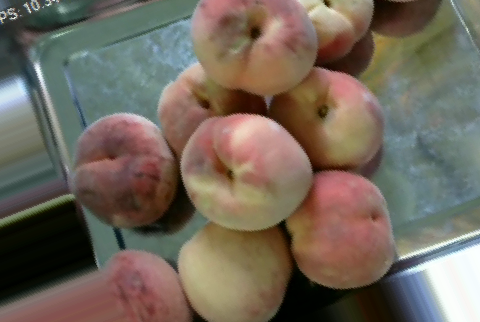Peach: (178, 112, 316, 230), (286, 170, 395, 287), (189, 0, 321, 95), (268, 64, 382, 172), (72, 113, 177, 228), (176, 220, 293, 321), (158, 59, 268, 159), (294, 0, 374, 62)
